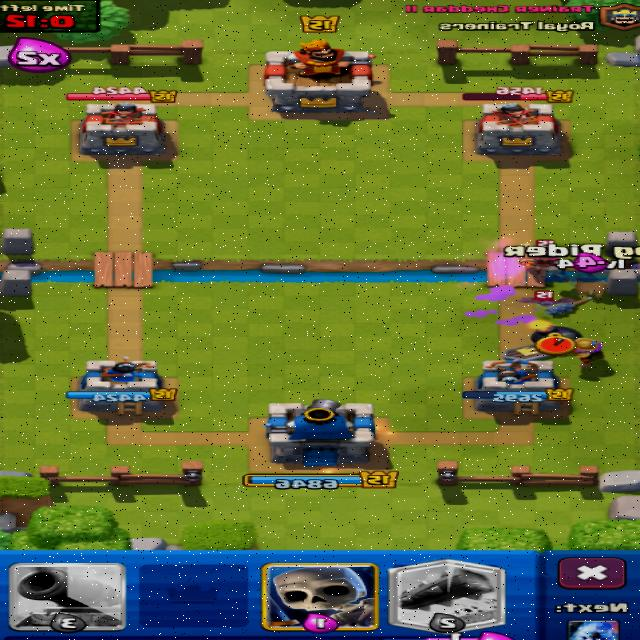Enemy-Bat: (521, 291, 573, 306)
Enemy-Firecracker: (521, 249, 568, 281), (537, 240, 554, 250)
Enemy-KingTower: (265, 39, 374, 111)
Enemy-PrincessTower: (79, 103, 173, 162), (477, 104, 562, 158)
Player-KingTower-Activated: (265, 399, 375, 467)
Player-Musketeer: (576, 338, 603, 367)
Player-PrincessTower: (67, 361, 175, 415), (465, 361, 573, 414)
